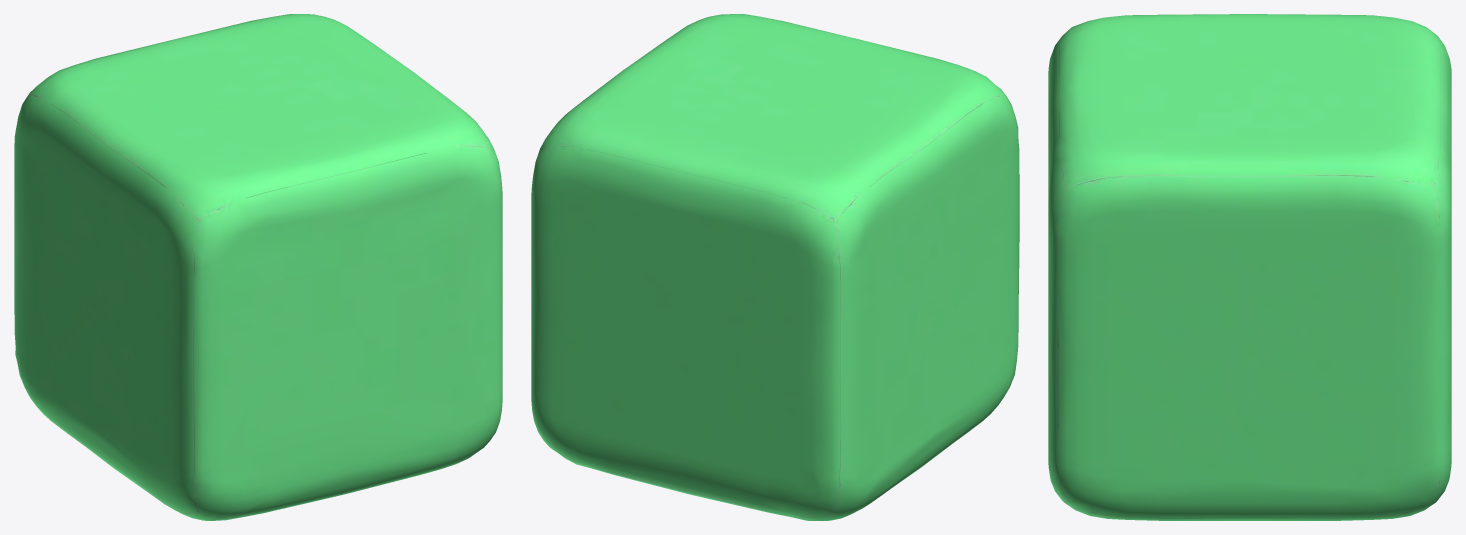
File: soft_block_green.glb
3 renders of one model, left to right at view 1: azimuth 30°, elevation 25°; view 2: azimuth 150°, elevation 25°; view 3: azimuth 270°, elevation 25°, orthographic. The views are drawn at different scales.
Size of what is drawn, in the model's own units: 0.9872 by 1 by 1.
1 material, 1 textured.
